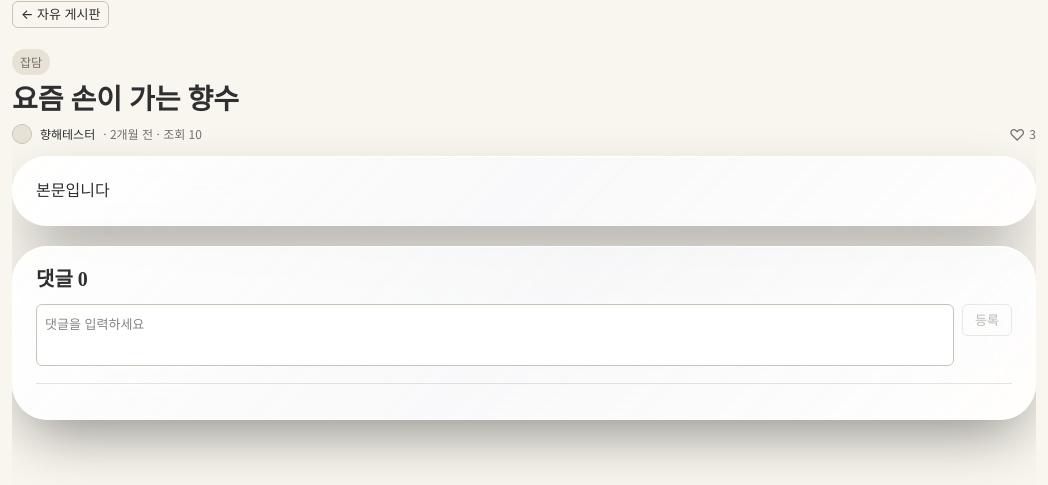
PostDetailPage 좋아요 › 누르면 그 자리에서 좋아요 수가 오른다
Click the button named "좋아요 3" at (1022, 134), box [1009, 125, 1036, 143]
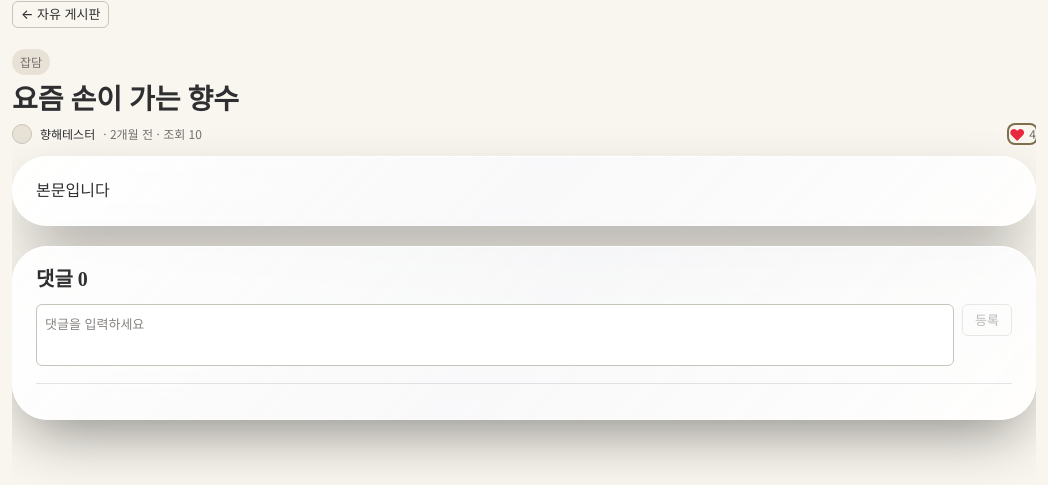
Expected: the button named "좋아요 4" is shown, [1009, 125, 1036, 143]
